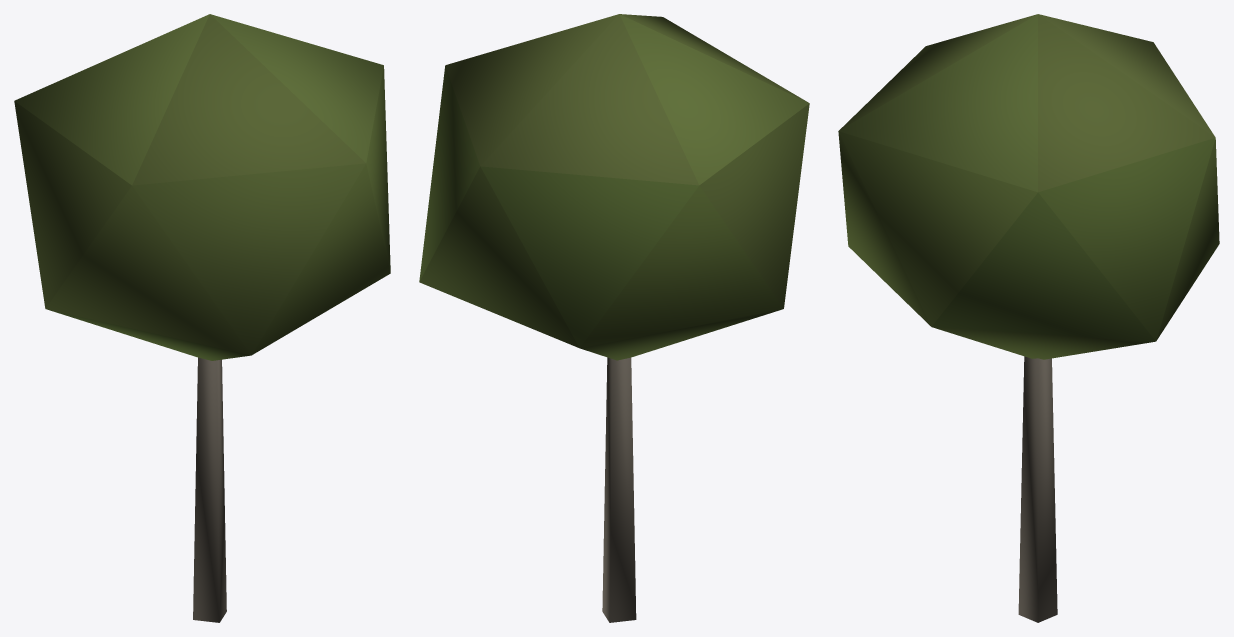
The model's file is env_steppe_far.glb.
3 renders of one model, left to right at view 1: azimuth 30°, elevation 25°; view 2: azimuth 150°, elevation 25°; view 3: azimuth 270°, elevation 25°, orthographic.
Visible parts, largest first — view 1: env_steppe_far; view 2: env_steppe_far; view 3: env_steppe_far.
Boxes of the visible parts, box(x1,y1,x2,y2) form: env_steppe_far: box(14, 14, 390, 622); env_steppe_far: box(419, 14, 809, 622); env_steppe_far: box(838, 14, 1219, 622).
Bounding box in the file's own units: 6 × 10.19 × 5.86.
